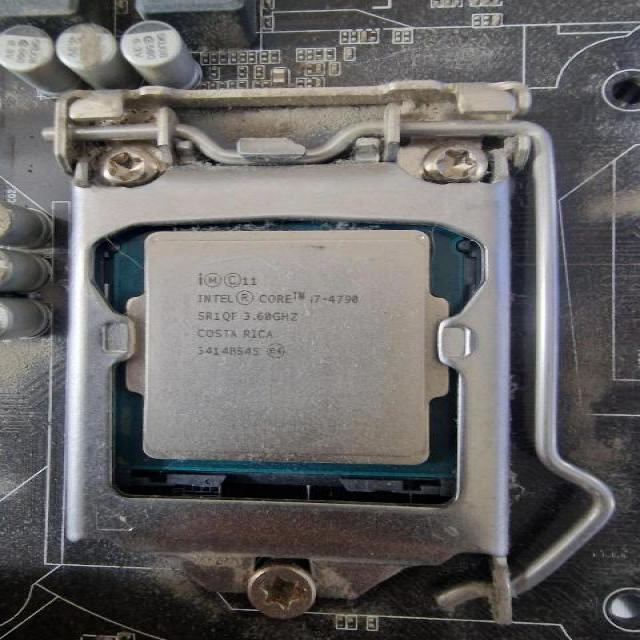CPU: (110, 220, 466, 480)
